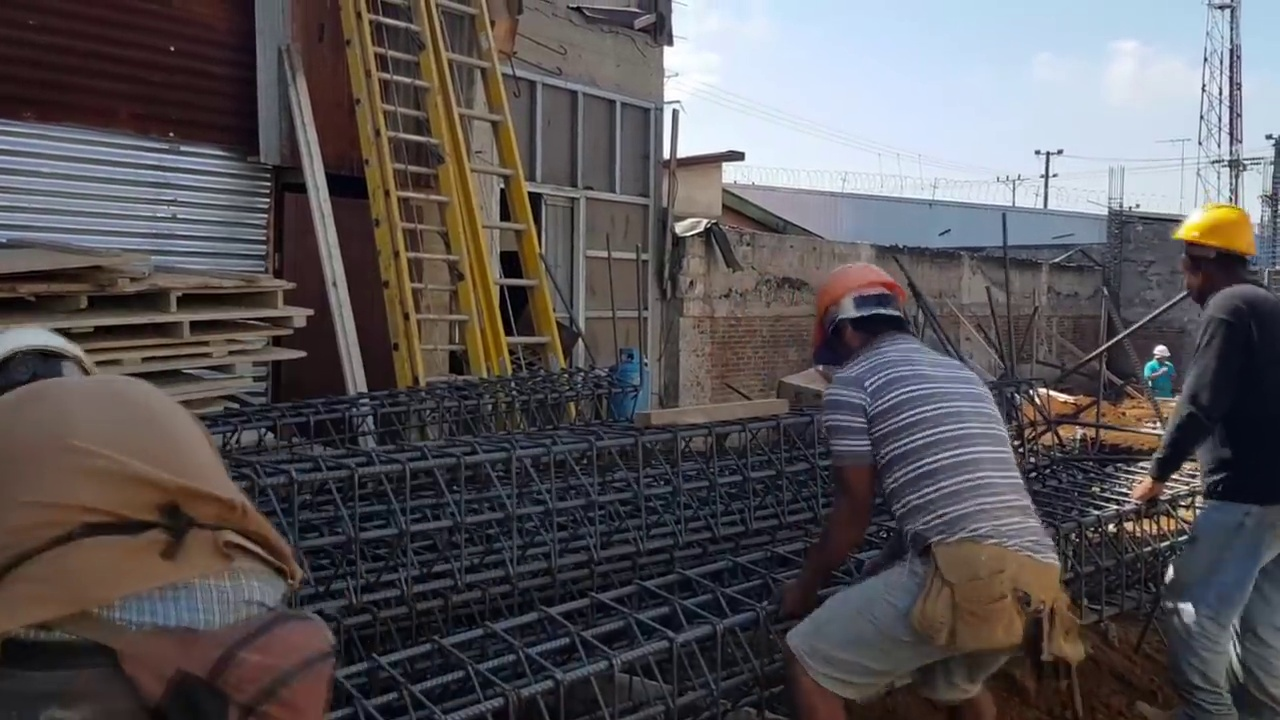helmet: (806, 255, 918, 341), (1174, 209, 1265, 259), (3, 328, 85, 378), (1153, 346, 1171, 359)
helmet-on: (804, 263, 921, 370), (1171, 202, 1264, 321), (2, 320, 102, 402), (1152, 345, 1172, 366)
person: (761, 228, 1083, 720), (0, 319, 349, 720), (1136, 191, 1280, 718), (1143, 345, 1177, 398)
